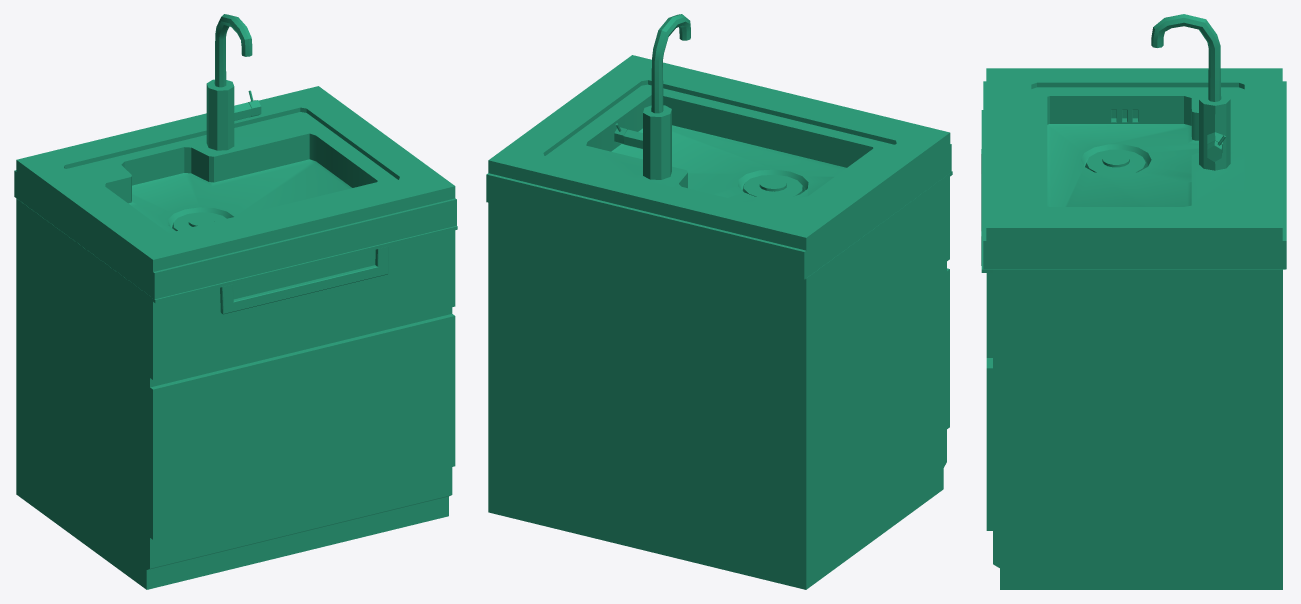
The model's file is sink.fbx.
The picture shows the model from 3 angles, left to right: view 1: azimuth 30°, elevation 25°; view 2: azimuth 150°, elevation 25°; view 3: azimuth 270°, elevation 25°; orthographic projection. The views are drawn at different scales.
Parts seen in each view (by area): view 1: Box011; view 2: Box011; view 3: Box011.
Boxes of the visible parts, x1,y1,x2,y2 form: Box011: [14, 14, 457, 589]; Box011: [486, 14, 952, 589]; Box011: [981, 14, 1286, 589].
Bounding box in the file's own units: 1.44 × 2.13 × 1.16.
